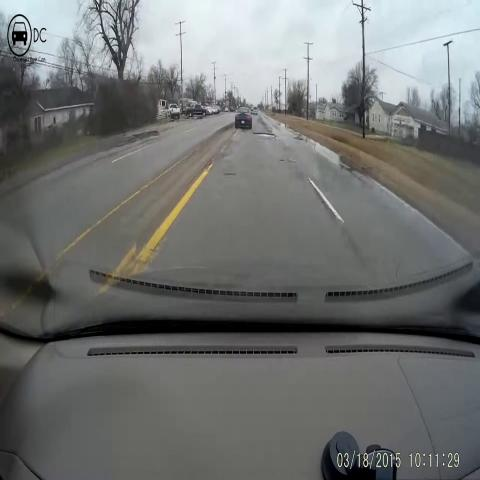pothole: (251, 130, 280, 142), (220, 166, 239, 180), (274, 154, 290, 166)
